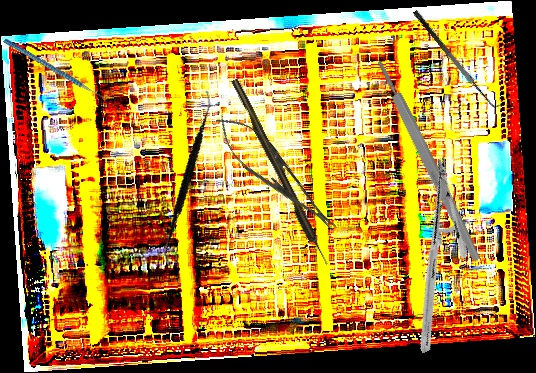Chopper: (3, 9, 113, 127)
Hook Surgical: (230, 77, 330, 268)
Needle Holder: (353, 156, 514, 354), (205, 104, 348, 244)
Scalpel Handle: (374, 58, 483, 263)
Spatula Surgical: (121, 90, 257, 268), (411, 3, 504, 114)
